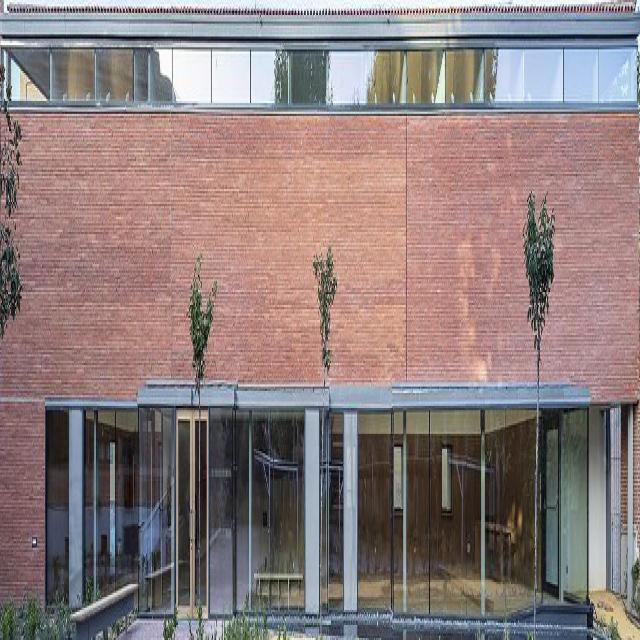door: (176, 400, 209, 621), (542, 413, 560, 598)
plant: (523, 185, 556, 638), (186, 249, 217, 625), (312, 243, 337, 634), (2, 57, 23, 350)
wall: (0, 0, 640, 635)
windows: (9, 46, 636, 110), (358, 415, 542, 609), (208, 421, 304, 626), (82, 408, 176, 616), (560, 399, 588, 604), (46, 408, 69, 604), (321, 416, 344, 610)
